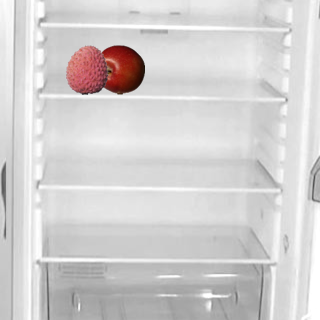Apple Braeburn: (94, 44, 144, 94)
Lychee: (61, 44, 111, 94)
